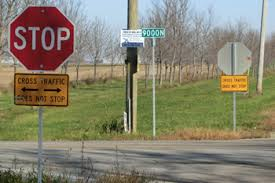stop: (6, 5, 76, 75)
